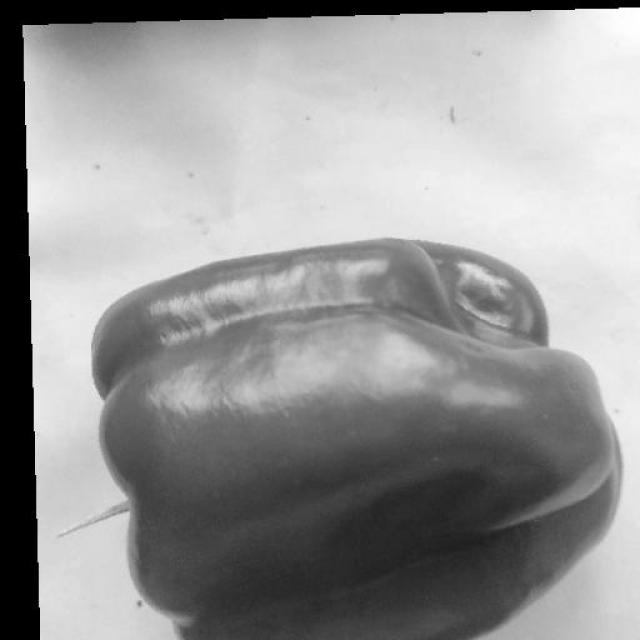Fresh_Capsicum: (62, 252, 640, 640)
